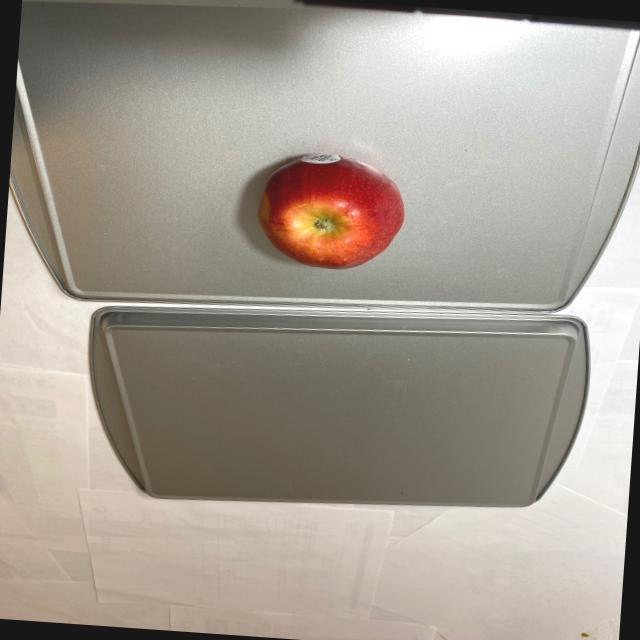apple: (248, 147, 410, 276)
